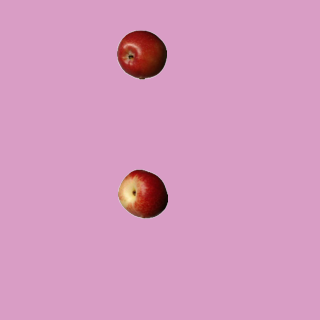Apple Braeburn: (116, 29, 166, 79)
Nectarine: (117, 168, 167, 218)
